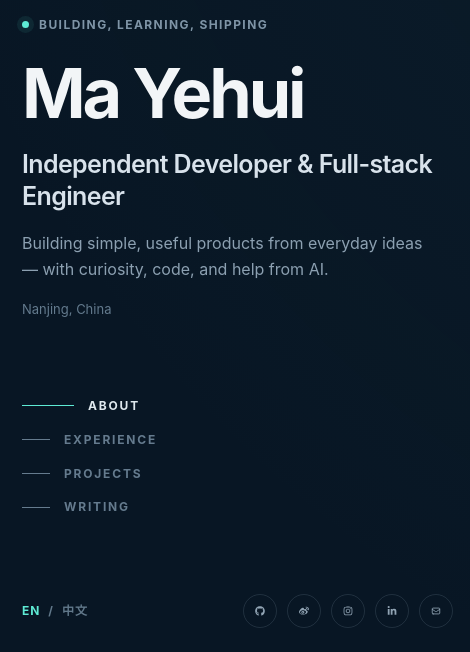
Test: Portfolio › switches the complete page to Chinese
Click the button with aria-label "切换到中文".
click(55, 611)  # box [22,593,88,629]
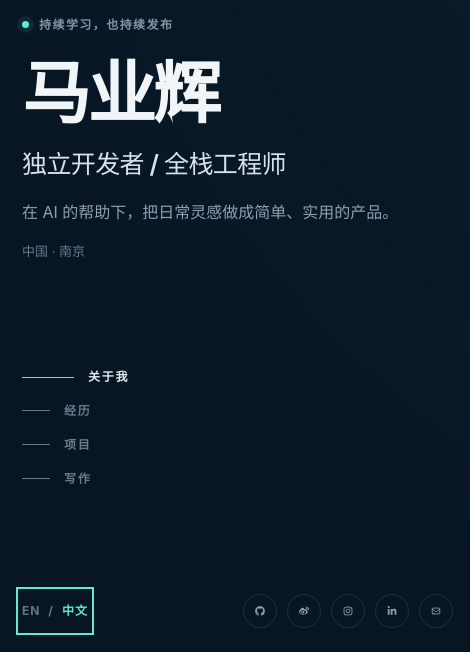
Check: the navigation bar named "主要导航" is shown, box [64,369,129,486]
